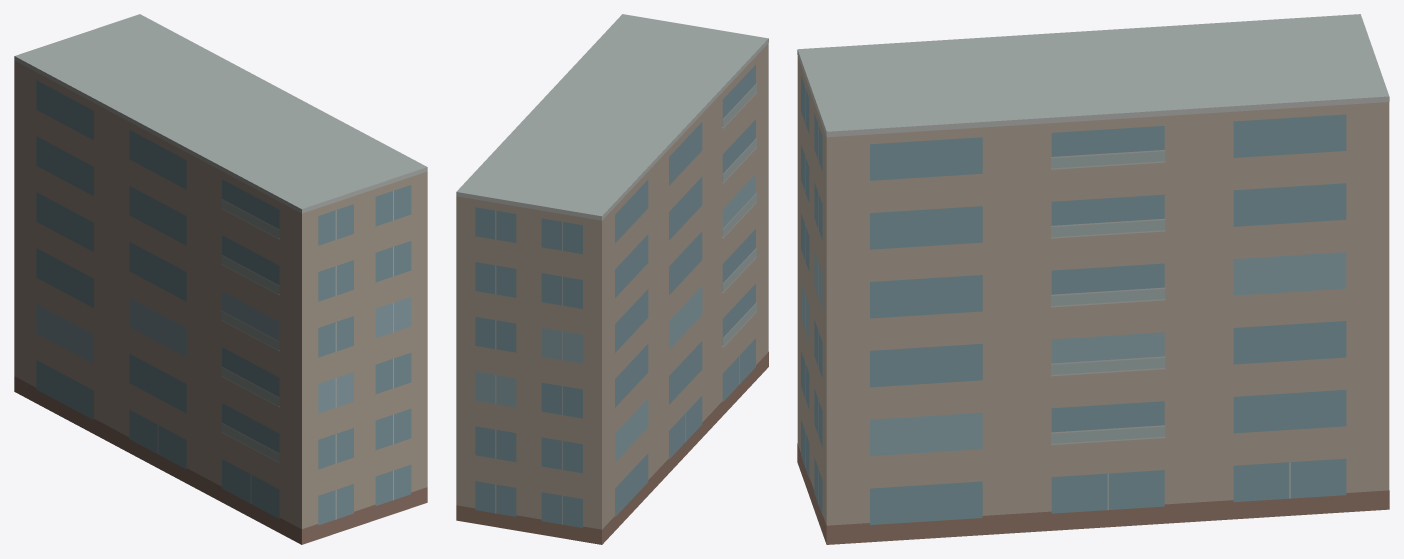
The model's file is survey-upis-33025609.glb.
3 views of the same model, side by side, from view 1: azimuth 30°, elevation 25°; view 2: azimuth 150°, elevation 25°; view 3: azimuth 270°, elevation 25° (orthographic). The views are drawn at different scales.
Parts seen in each view (by area): view 1: survey-upis-33025609.tmp; view 2: survey-upis-33025609.tmp; view 3: survey-upis-33025609.tmp.
Part boxes in pixels (bbox=[...]): survey-upis-33025609.tmp: bbox=[14, 14, 427, 544]; survey-upis-33025609.tmp: bbox=[456, 14, 768, 544]; survey-upis-33025609.tmp: bbox=[797, 14, 1389, 544].
Size of the model in its own units: 11.2 by 18.3 by 23.78.
